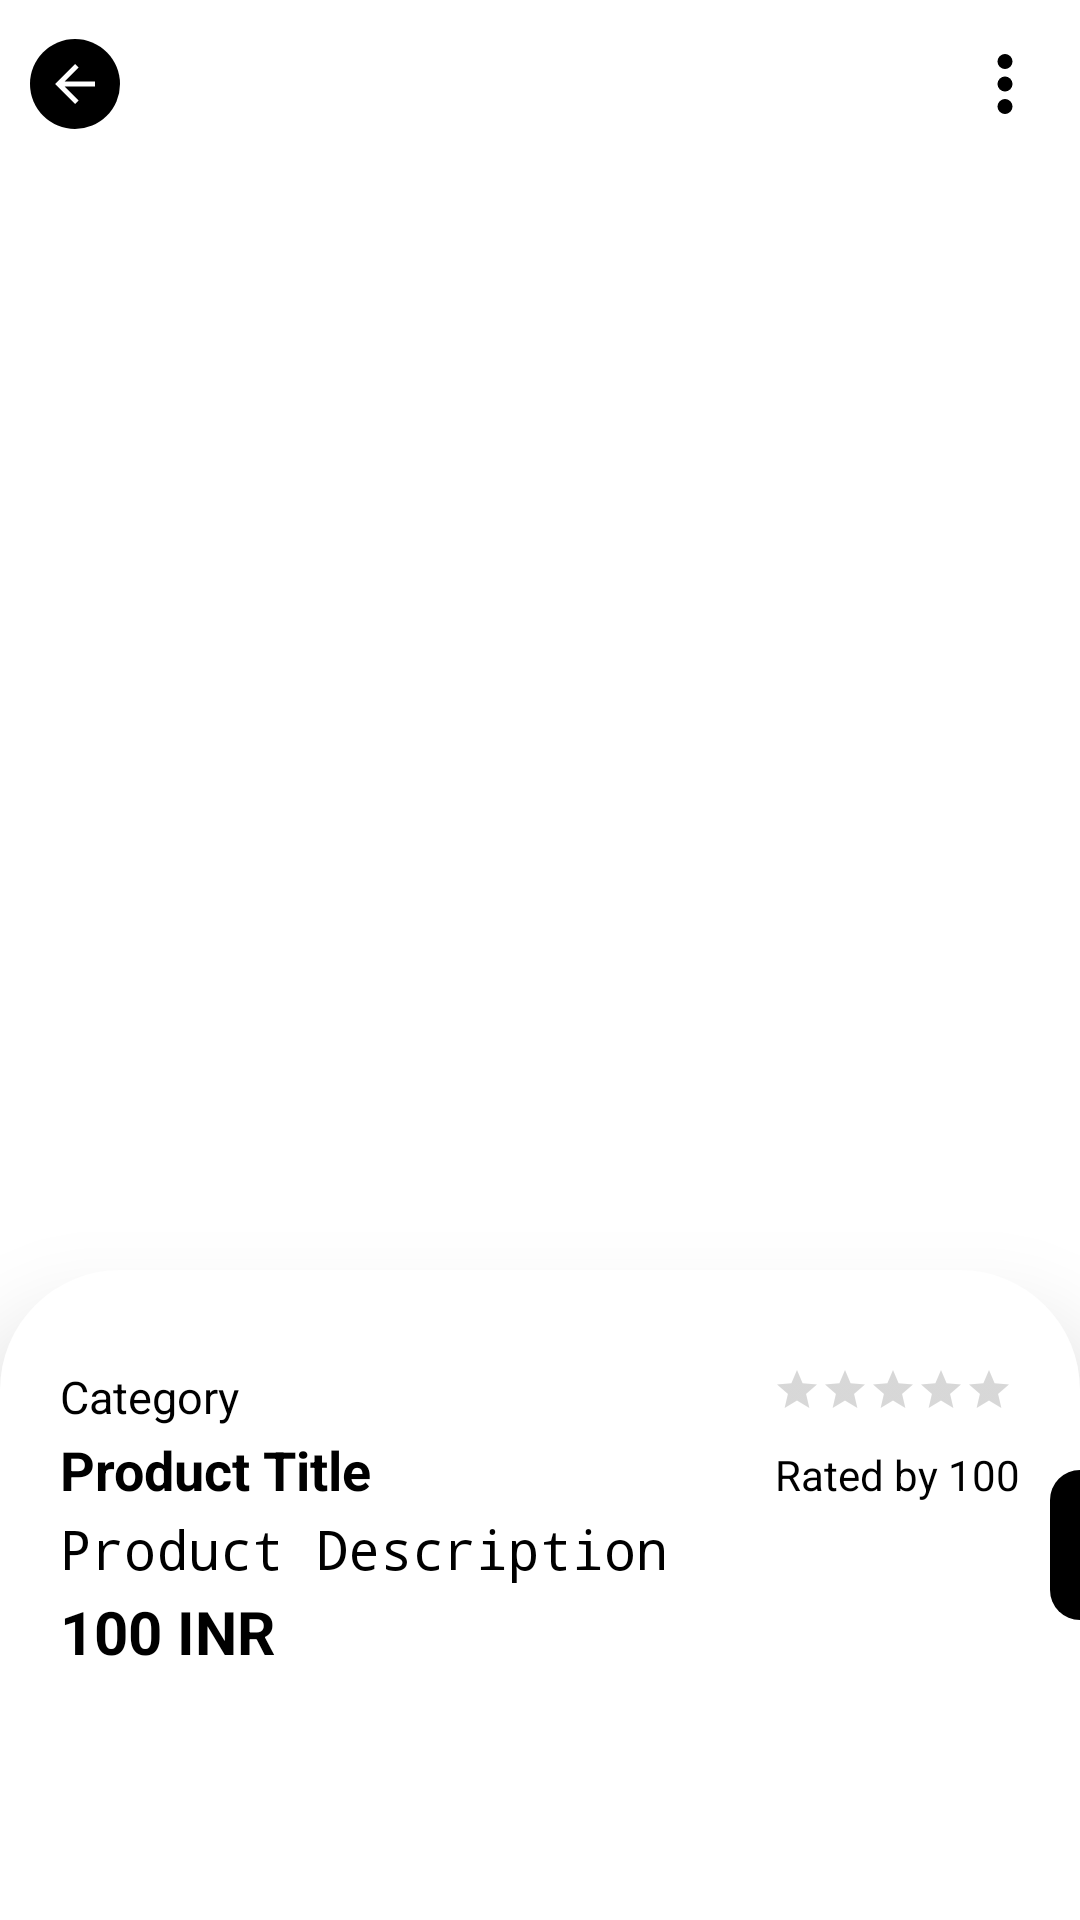

Where to tap for icons on this 1080×1920 app screen, as [x,y]:
back: [75,84]
more: [1005,84]
